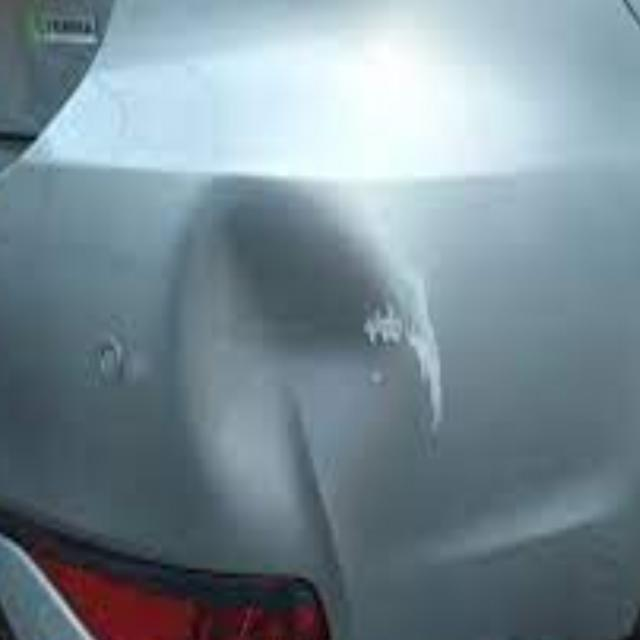dents: (140, 118, 454, 553)
